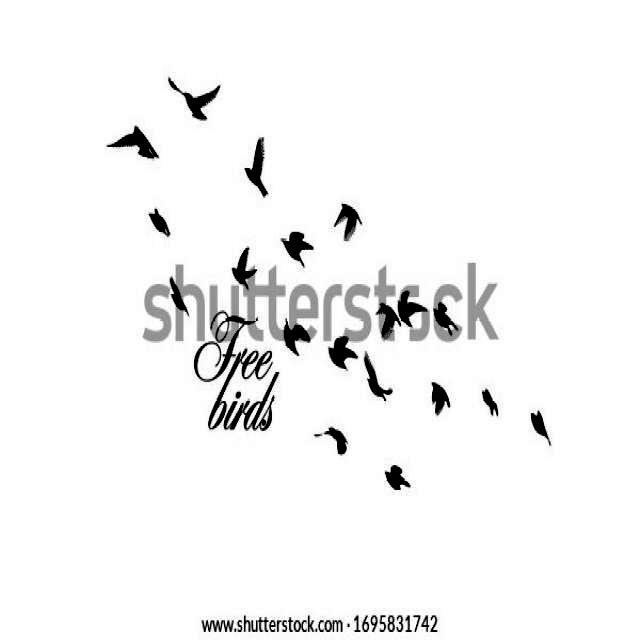bird: (162, 75, 224, 123), (236, 131, 279, 200), (277, 217, 320, 274), (356, 350, 394, 412), (227, 240, 266, 292), (378, 454, 421, 500), (105, 125, 162, 157), (395, 284, 430, 336), (370, 284, 399, 346), (331, 190, 363, 246), (278, 312, 313, 359), (324, 326, 359, 373), (424, 370, 454, 424), (430, 299, 460, 343), (165, 273, 192, 320), (313, 422, 349, 457), (522, 404, 552, 444), (145, 202, 177, 238), (476, 381, 500, 425)
